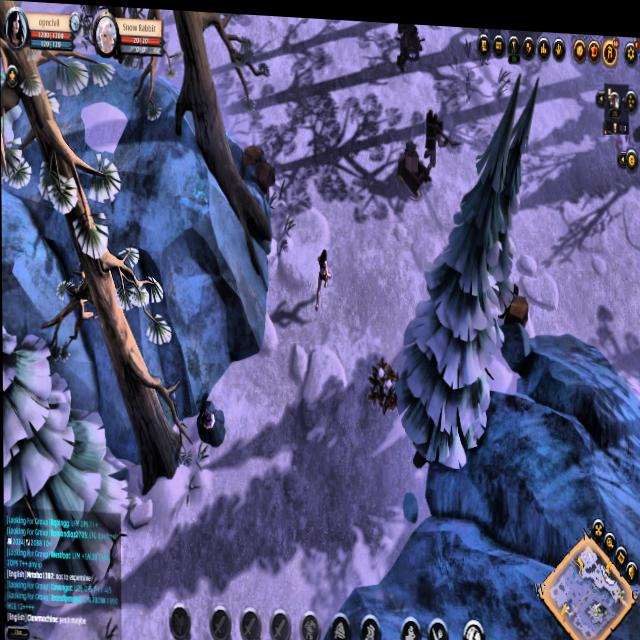copper_ore: (194, 390, 226, 448)
cotton: (367, 359, 405, 410)
limestone: (497, 283, 537, 325)
mob: (419, 94, 463, 176), (388, 18, 437, 67)
